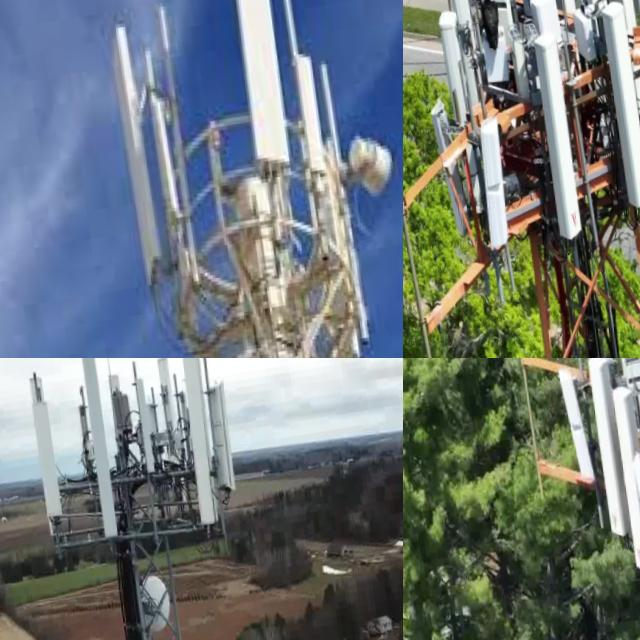GSM Antenna: (95, 26, 164, 291), (215, 0, 292, 184), (529, 38, 582, 249), (597, 3, 640, 229), (579, 358, 629, 547), (171, 358, 220, 539), (75, 358, 119, 547), (420, 92, 471, 247), (606, 383, 640, 579), (467, 117, 512, 257), (198, 373, 241, 508), (556, 364, 596, 487), (431, 9, 470, 126), (27, 399, 62, 526), (293, 60, 325, 185), (150, 358, 183, 473), (126, 575, 170, 640), (130, 382, 153, 474), (519, 0, 563, 46), (438, 0, 475, 51), (597, 0, 637, 38)
Microwave Antenna: (331, 138, 402, 216)
